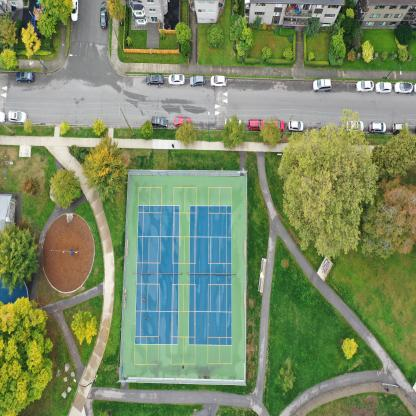Coniferous Tree: (374, 183, 416, 259), (87, 136, 124, 206), (0, 225, 36, 292), (374, 130, 416, 184), (51, 169, 80, 210), (223, 118, 245, 147), (280, 356, 294, 396), (175, 122, 198, 146), (0, 18, 17, 46), (108, 0, 124, 25), (0, 50, 20, 65), (141, 121, 153, 139), (23, 178, 36, 194)
Deciduous Tree: (284, 132, 369, 257), (0, 297, 60, 413), (71, 311, 95, 345), (20, 25, 38, 54), (238, 28, 253, 53), (338, 340, 357, 359), (90, 116, 106, 135), (364, 42, 374, 61), (60, 121, 70, 137), (25, 122, 34, 132)
